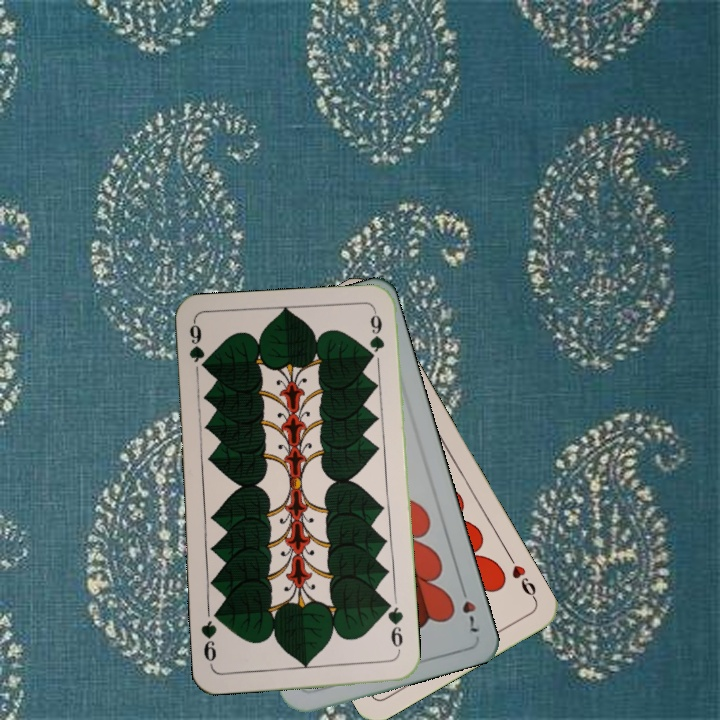G9: (382, 598, 406, 657), (185, 319, 209, 373)
H7: (455, 580, 482, 635)
H9: (503, 550, 539, 604)
